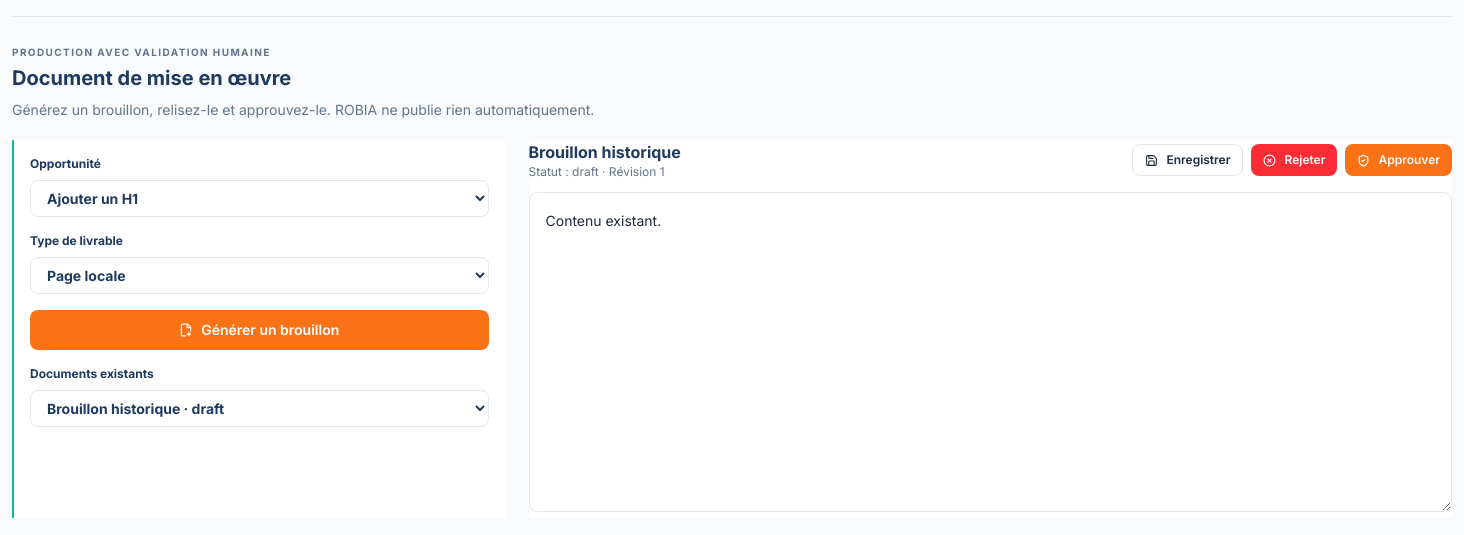
Test case: DocumentWorkflow — migrated to revision-based saves › reflects the new revision returned by a successful save
Replace the text in the text box showing "Contenu existant." with "Modifie." at (990, 352), box [528, 192, 1452, 512]
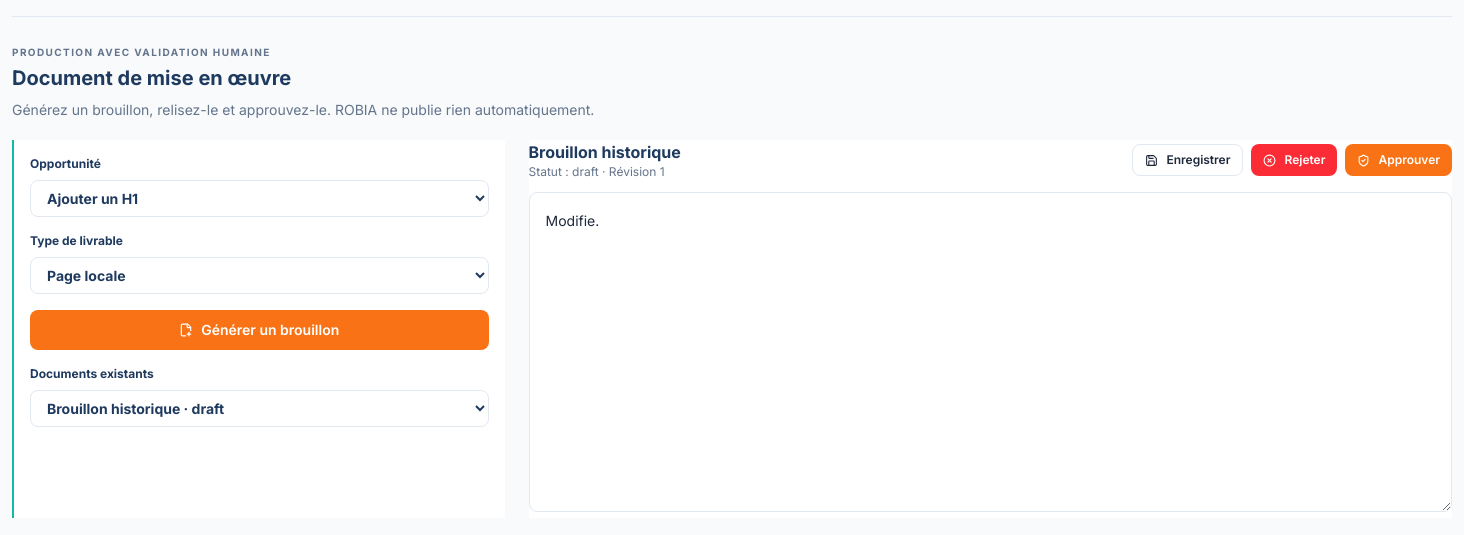
Click the button "Enregistrer" at (1188, 160), box [1132, 144, 1243, 176]
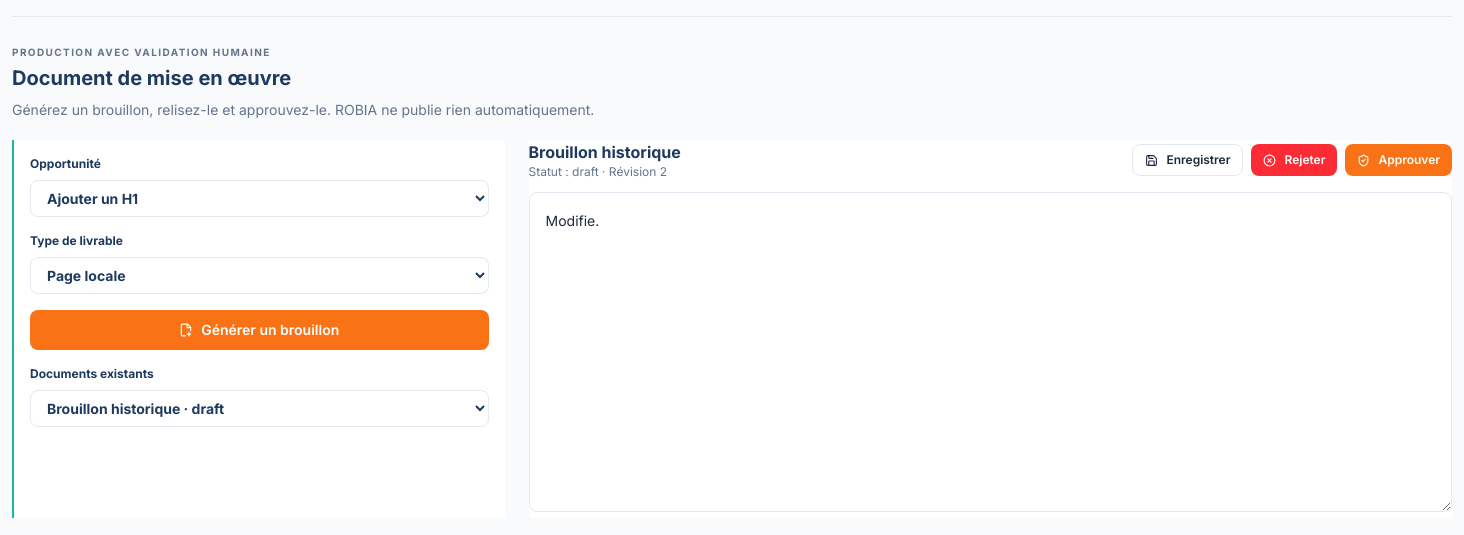
Expected: the text "Statut : draft · Révision 2" is shown, [528, 164, 681, 180]
